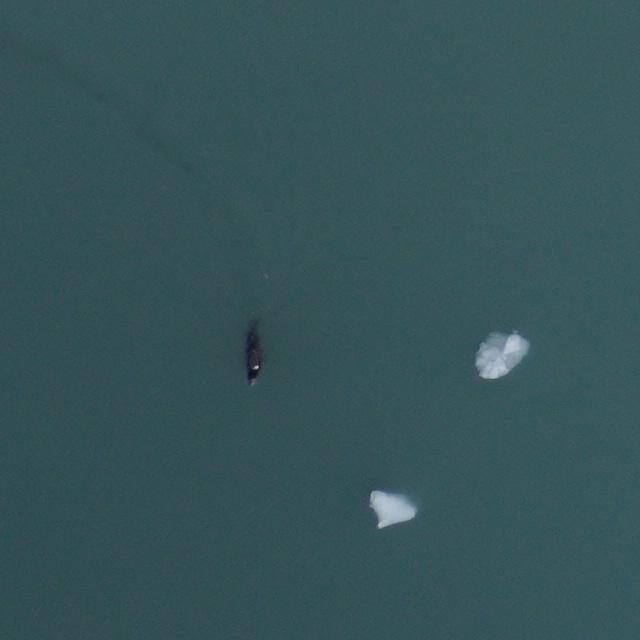seal: (244, 319, 264, 389)
